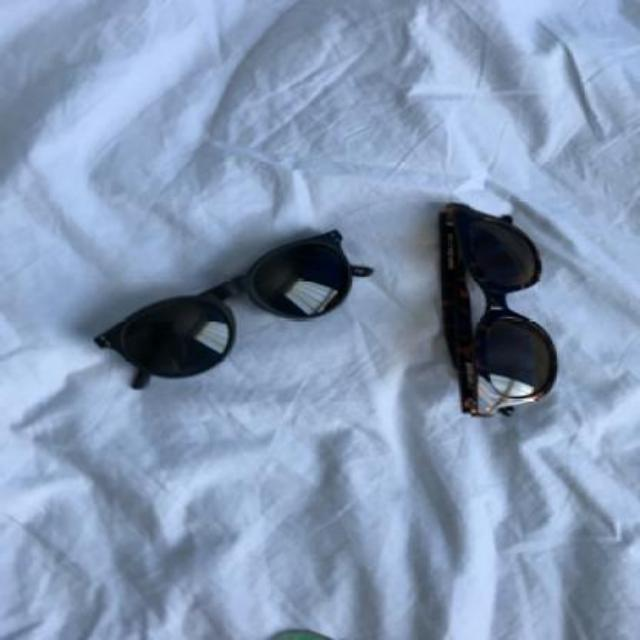glasses: (94, 228, 376, 390), (433, 204, 559, 420)
